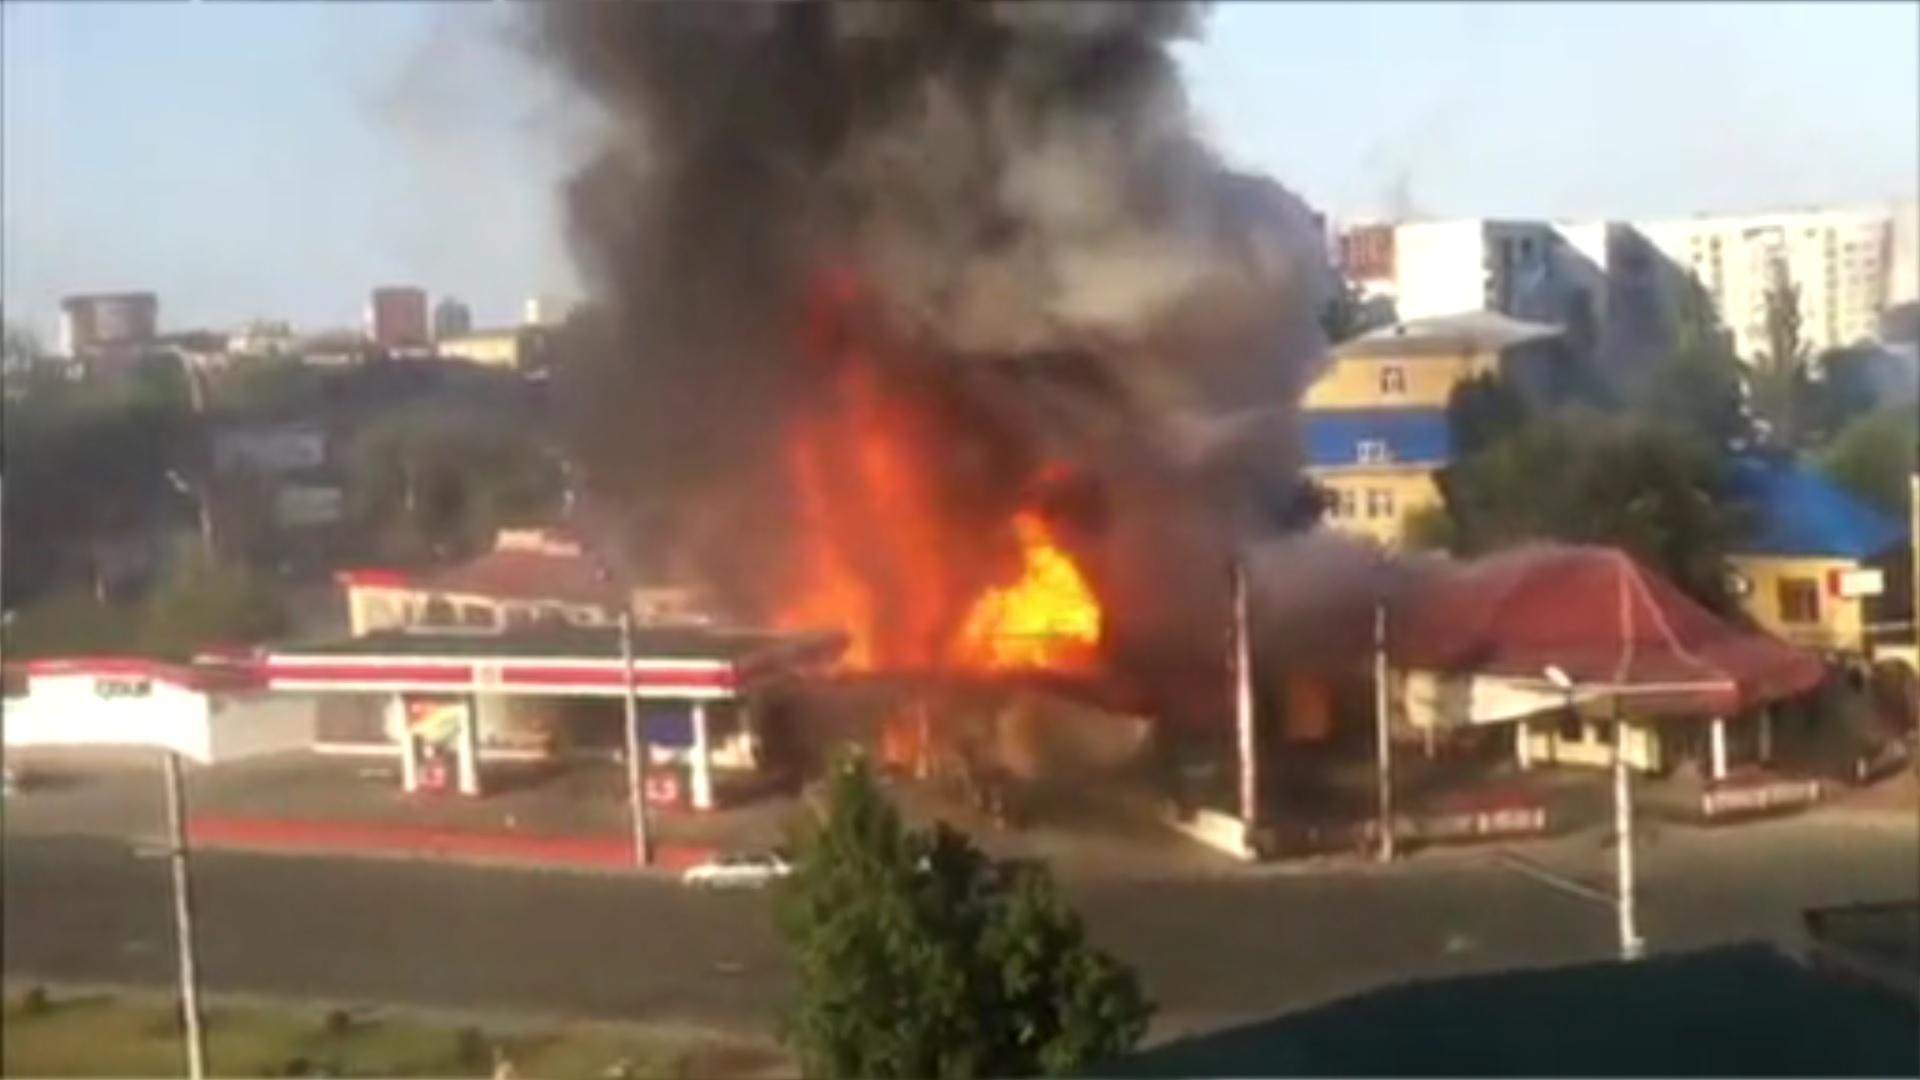fire: (829, 493, 1110, 674), (957, 512, 1104, 667)
